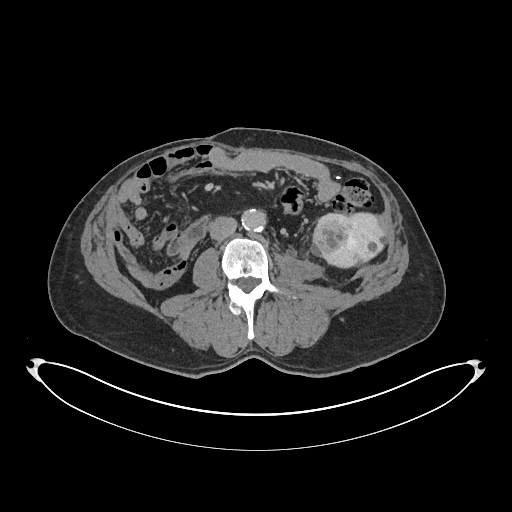Lesion: (309, 222, 351, 253)
